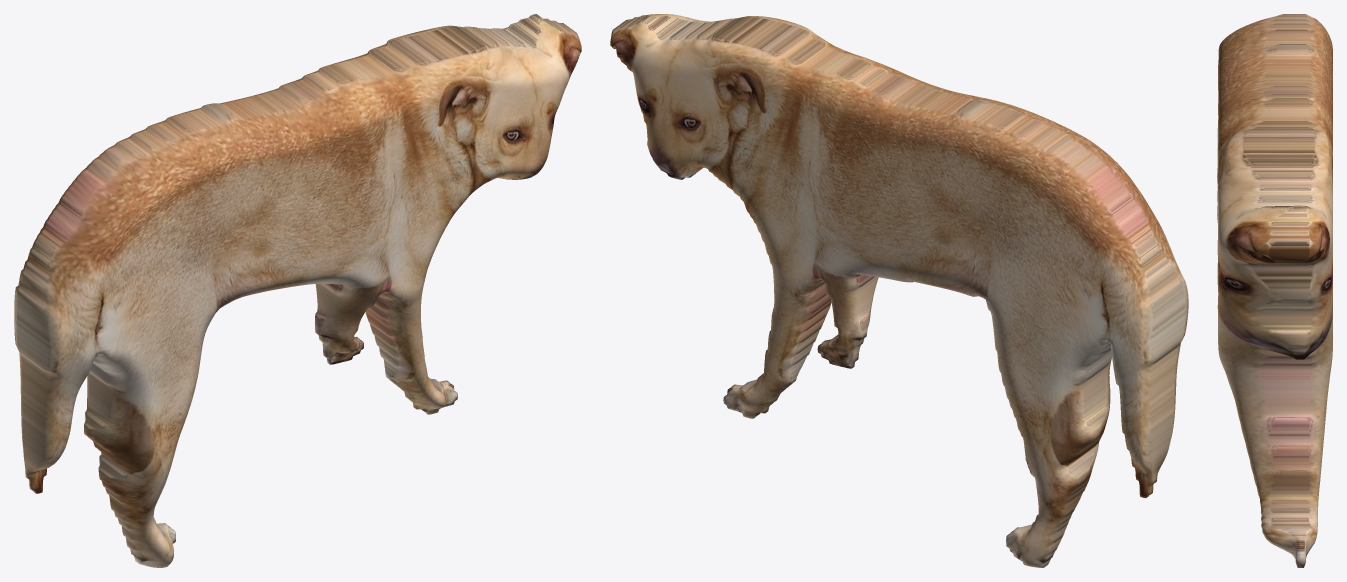
File: domestic_dog_251913625.glb
The picture shows the model from 3 angles, left to right: view 1: azimuth 30°, elevation 25°; view 2: azimuth 150°, elevation 25°; view 3: azimuth 270°, elevation 25°; orthographic projection. The views are drawn at different scales.
Visible parts, largest first — view 1: domestic_dog_251913625; view 2: domestic_dog_251913625; view 3: domestic_dog_251913625.
Boxes of the visible parts, box(x1,y1,x2,y2) form: domestic_dog_251913625: box(14, 14, 581, 567); domestic_dog_251913625: box(610, 14, 1188, 567); domestic_dog_251913625: box(1217, 14, 1332, 567).
Size of the model in its own units: 1.98 by 1.58 by 0.3314.
1 material, 1 textured.
